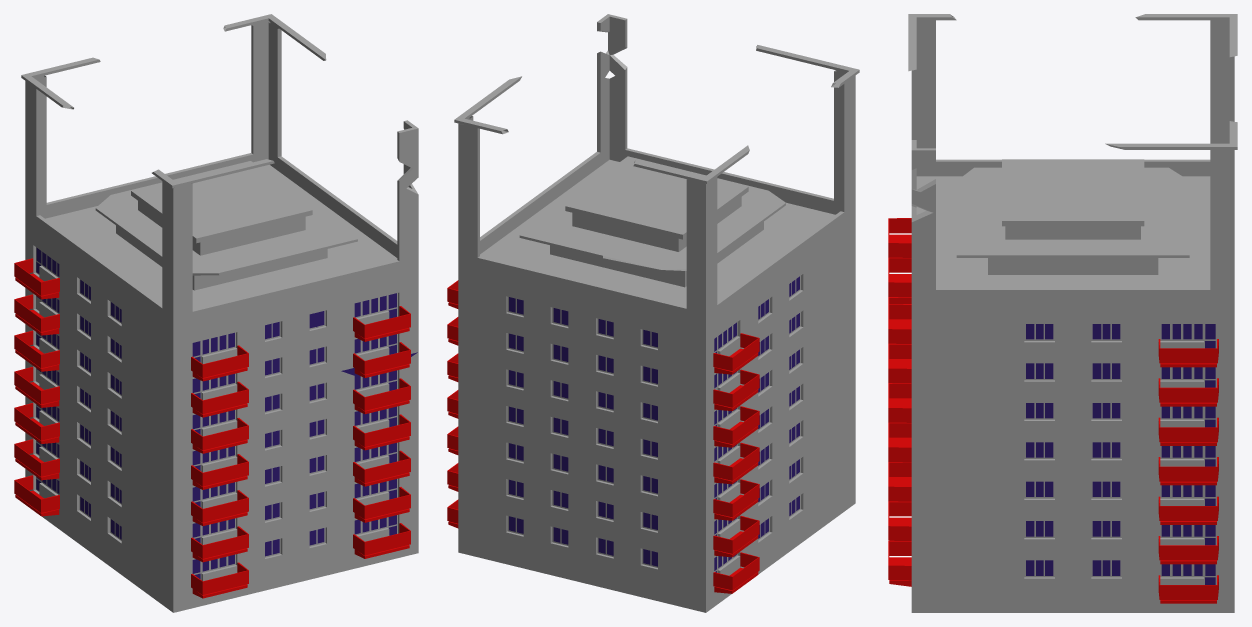
The model's file is BULDING.fbx.
The picture shows the model from 3 angles, left to right: view 1: azimuth 30°, elevation 25°; view 2: azimuth 150°, elevation 25°; view 3: azimuth 270°, elevation 25°; orthographic projection. The views are drawn at different scales.
Parts seen in each view (by area): view 1: bulding1_3, polySurface1, bulding1, polySurface3, polySurface5, polySurface2, polySurface4; view 2: bulding1_3, polySurface1, bulding1, polySurface3, polySurface5, polySurface2, polySurface4; view 3: bulding1_3, polySurface1, bulding1, polySurface3, polySurface5, polySurface2, polySurface4.
Part boxes in pixels (x1=…): bulding1_3: x1=25, y1=231, x2=418, y2=592; polySurface1: x1=25, y1=21, x2=418, y2=339; bulding1: x1=14, y1=258, x2=410, y2=598; polySurface3: x1=95, y1=161, x2=357, y2=290; polySurface5: x1=131, y1=162, x2=312, y2=255; polySurface2: x1=29, y1=489, x2=418, y2=612; polySurface4: x1=21, y1=14, x2=326, y2=188; bulding1_3: x1=458, y1=227, x2=855, y2=592; polySurface1: x1=458, y1=14, x2=855, y2=336; bulding1: x1=447, y1=280, x2=759, y2=593; polySurface3: x1=519, y1=156, x2=785, y2=287; polySurface5: x1=565, y1=158, x2=748, y2=251; polySurface2: x1=458, y1=483, x2=855, y2=612; polySurface4: x1=454, y1=45, x2=859, y2=183; bulding1_3: x1=911, y1=315, x2=1234, y2=590; polySurface1: x1=911, y1=20, x2=1234, y2=315; bulding1: x1=888, y1=218, x2=1218, y2=603; polySurface3: x1=956, y1=167, x2=1189, y2=274; polySurface5: x1=1002, y1=159, x2=1144, y2=239; polySurface2: x1=911, y1=591, x2=1234, y2=612; polySurface4: x1=908, y1=14, x2=1237, y2=149.
Size of the model in its own units: 10.11 by 14.66 by 9.94.
